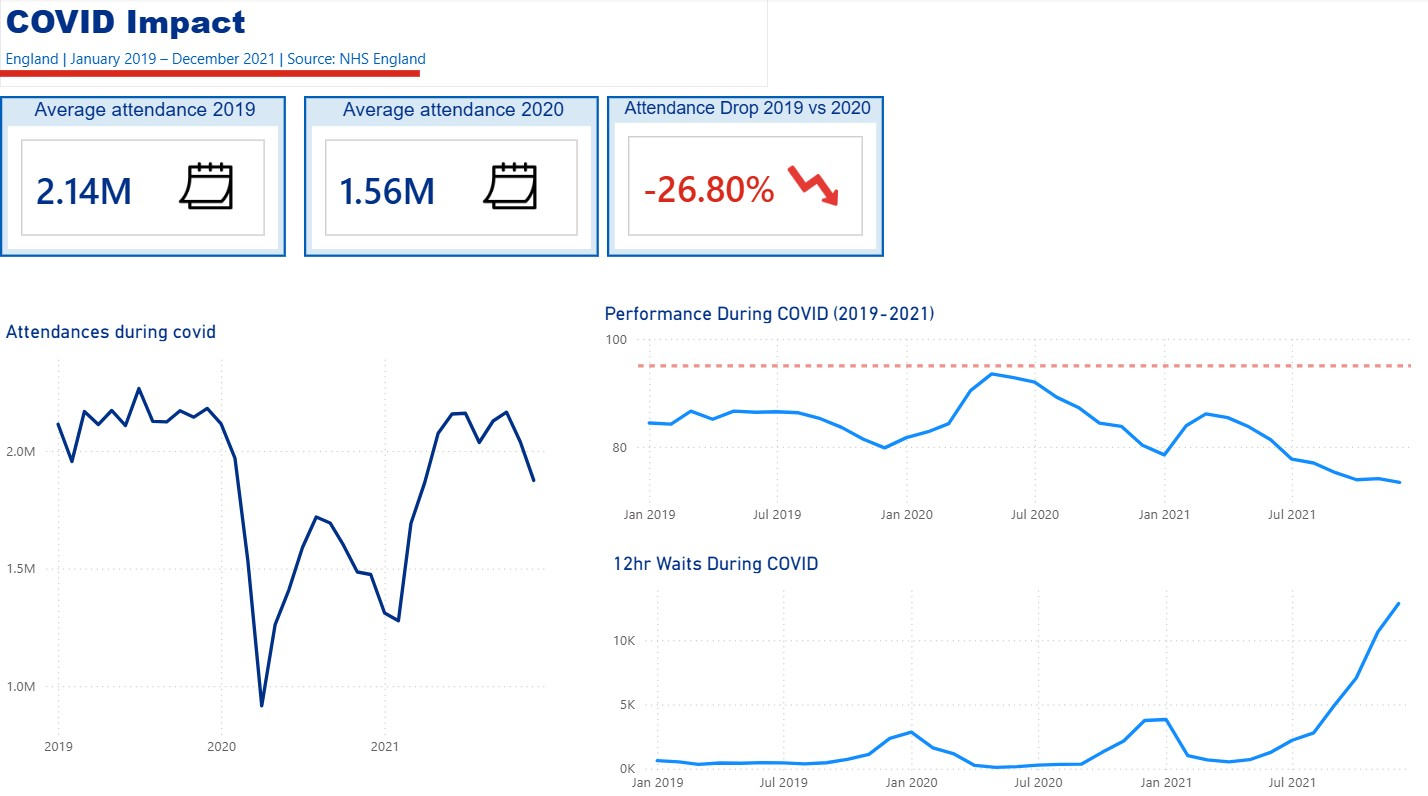

What the dashboard file says about the page in this screenshot:
{"tool":"powerbi","page":{"name":"COVID impact","canvas":[1280,720],"ordinal":2},"visuals":[{"type":"lineChart","title":"Attendances during covid","fields":{"Category":["ae_monthly.period_date"],"Y":["Sum(ae_monthly.total_attendances)"]},"box":[0,288,496,400],"z":0},{"type":"lineChart","title":"Performance During COVID (2019-2021)","fields":{"Category":["ae_performance.period_date"],"Y":["Avg(ae_performance.pct_within_4hrs_all)"]},"box":[536,272,744,208],"z":1000},{"type":"cardVisual","title":"Average attendance 2019","fields":{"Data":["ae_monthly.Avg Attendance 2019"]},"box":[0,88,256,144],"z":2000},{"type":"cardVisual","title":"Average attendance 2020","fields":{"Data":["ae_monthly.Avg Attendance 2020"]},"box":[272,88,264,144],"z":3000},{"type":"cardVisual","title":"Attendance Drop 2019 vs 2020","fields":{"Data":["ae_monthly.COVID Attendance Drop %"]},"box":[544,88,248,144],"z":4000},{"type":"lineChart","title":"12hr Waits During COVID","fields":{"Category":["ae_monthly.period_date"],"Y":["Sum(ae_monthly.patients_over_12hrs)"]},"box":[544,496,736,224],"z":5000},{"type":"textbox","title":"COVID Impact","box":[0,0,688,80],"z":6000},{"type":"shape","box":[0,64,376,8],"z":8000},{"type":"image","box":[144,144,80,48],"z":8003},{"type":"image","box":[416,144,80,48],"z":8004},{"type":"image","box":[704,144,48,48],"z":8005}]}

Visuals, with their boxes in screenshot pixels (x1, y1, x2, y2), scaled from the page's 1280x720 canvas onto the 1428x796 screenshot:
"Attendances during covid" lineChart: (0,318,553,761)
"Performance During COVID (2019-2021)" lineChart: (598,301,1427,531)
"Average attendance 2019" cardVisual: (0,97,286,256)
"Average attendance 2020" cardVisual: (303,97,598,256)
"Attendance Drop 2019 vs 2020" cardVisual: (607,97,884,256)
"12hr Waits During COVID" lineChart: (607,548,1427,795)
"COVID Impact" textbox: (0,0,768,88)
shape: (0,71,419,80)
image: (161,159,250,212)
image: (464,159,553,212)
image: (785,159,839,212)
